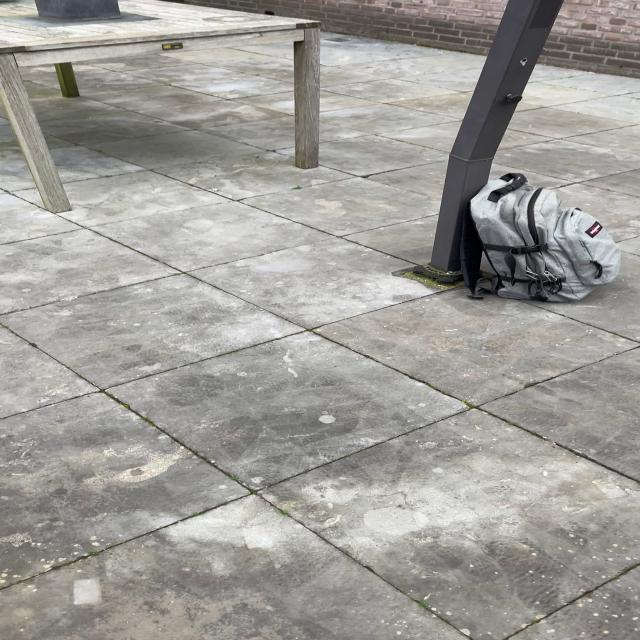backpack: (453, 169, 628, 308)
